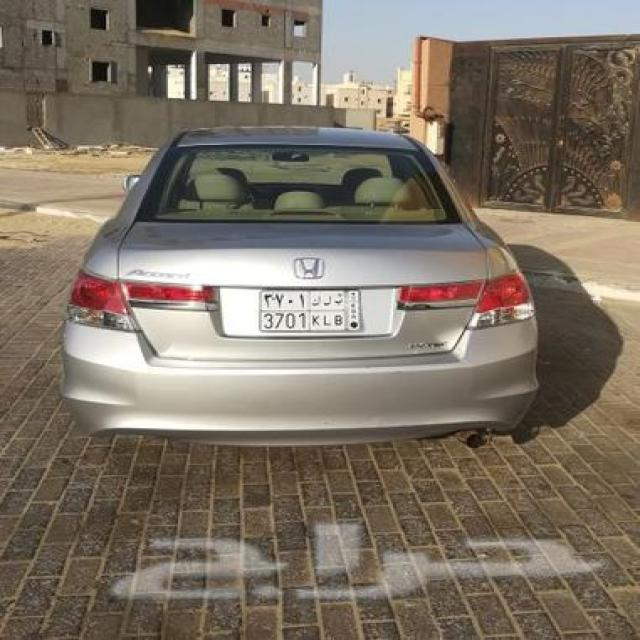license_plate: (256, 286, 364, 336)
